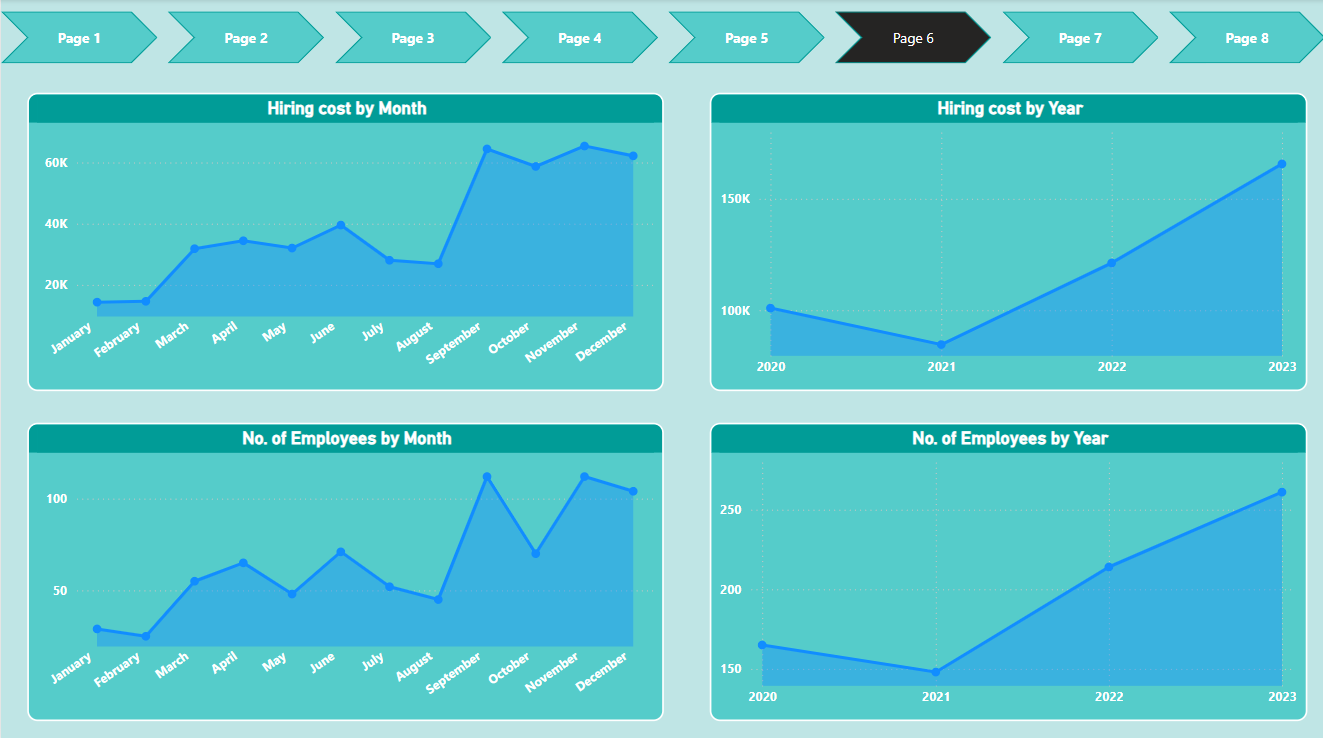

The page's visual inventory and layout, read from the dashboard file:
{"tool":"powerbi","page":{"name":"Page 6","canvas":[1280,720],"ordinal":5},"visuals":[{"type":"lineChart","title":"Hiring cost by Month","fields":{"Y":["Sum(Hiring Data.hiring_cost)"],"Category":["Hiring Data.hiring_date.Variation.Date Hierarchy.Month"]},"box":[25.3,90.5,614.1,288.3],"z":0},{"type":"lineChart","title":"Hiring cost by Year","fields":{"Y":["Sum(Hiring Data.hiring_cost)"],"Category":["Hiring Data.hiring_date.Variation.Date Hierarchy.Year"]},"box":[684.1,90.5,576.7,288.3],"z":1000},{"type":"lineChart","title":"No. of Employees by Month","fields":{"Category":["Hiring Data.hiring_date.Variation.Date Hierarchy.Month"],"Y":["CountNonNull(Employee.Employee ID)"]},"box":[25.3,409,614.1,288.3],"z":2000},{"type":"areaChart","title":"No. of Employees by Year","fields":{"Category":["Hiring Data.hiring_date.Variation.Date Hierarchy.Year"],"Y":["CountNonNull(Employee.Employee ID)"]},"box":[684.1,409,576.7,288.3],"z":3000},{"type":"pageNavigator","box":[0,12.1,1280,50.7],"z":4000}]}

Visuals, with their boxes in screenshot pixels (x1, y1, x2, y2), scaled from the page's 1280x720 canvas onto the 1323x738 screenshot:
"Hiring cost by Month" lineChart: rect(26, 93, 661, 388)
"Hiring cost by Year" lineChart: rect(707, 93, 1303, 388)
"No. of Employees by Month" lineChart: rect(26, 419, 661, 715)
"No. of Employees by Year" areaChart: rect(707, 419, 1303, 715)
pageNavigator: rect(0, 12, 1322, 64)
